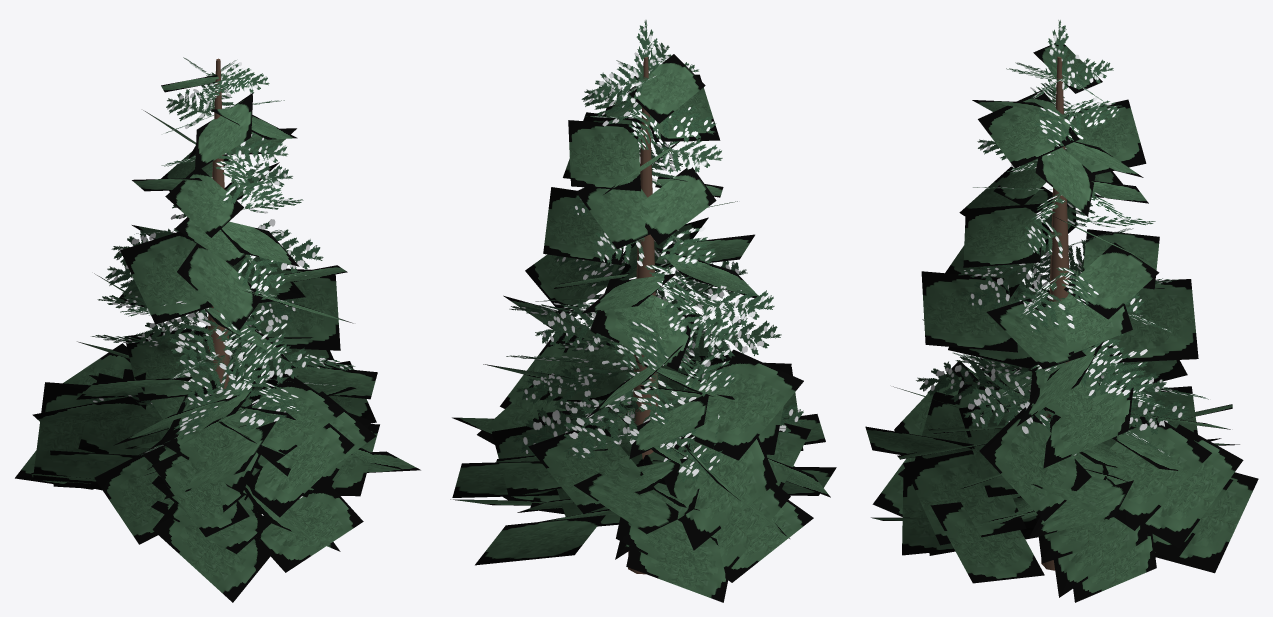
Rendered from snow_pine_2_mid.glb.
The picture shows the model from 3 angles, left to right: view 1: azimuth 30°, elevation 25°; view 2: azimuth 150°, elevation 25°; view 3: azimuth 270°, elevation 25°; orthographic projection. The views are drawn at different scales.
Parts seen in each view (by area): view 1: snow_pine_2_mid; view 2: snow_pine_2_mid; view 3: snow_pine_2_mid.
Boxes of the visible parts, box(x1,y1,x2,y2) form: snow_pine_2_mid: box(15, 57, 420, 602); snow_pine_2_mid: box(450, 20, 836, 602); snow_pine_2_mid: box(865, 20, 1258, 602).
Size of the model in its own units: 7.03 by 10.35 by 6.78.
3 materials, 2 textured.
